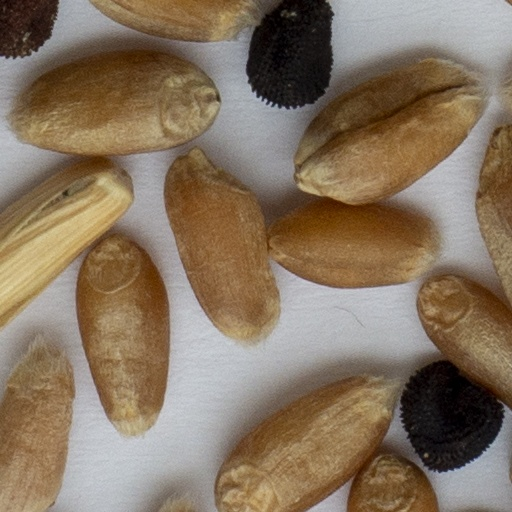Agrostemma-poly: (398, 358, 505, 473), (242, 0, 334, 108), (0, 0, 60, 59)
Peel-poly: (0, 155, 136, 332)
